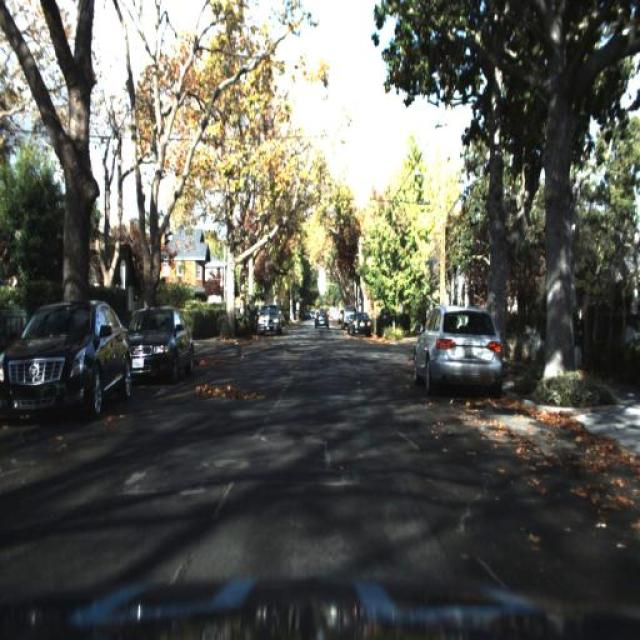car: (0, 284, 132, 439), (408, 287, 506, 417), (116, 302, 202, 398), (124, 304, 194, 394), (252, 296, 286, 344), (348, 310, 374, 340), (350, 308, 374, 340), (310, 306, 331, 332), (342, 305, 353, 334)
